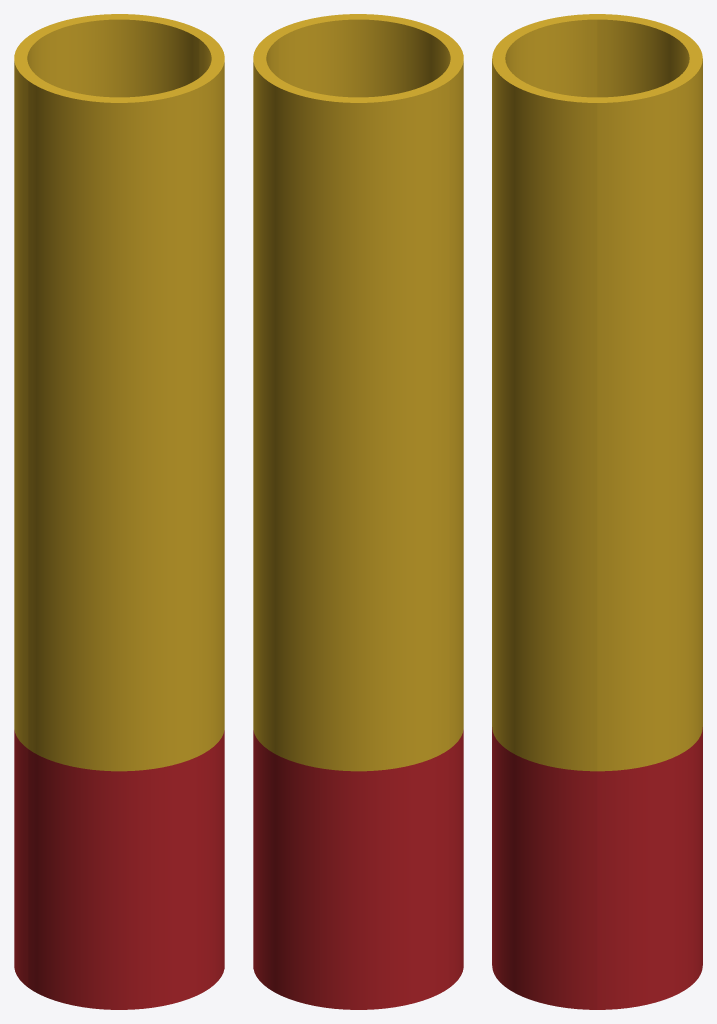
Rendered from flash_dryer_temperature.glb.
The picture shows the model from 3 angles, left to right: view 1: azimuth 30°, elevation 25°; view 2: azimuth 150°, elevation 25°; view 3: azimuth 270°, elevation 25°; orthographic projection.
Visible parts, largest first — view 1: temperature__front, temperature__back; view 2: temperature__back, temperature__front; view 3: temperature__back, temperature__front.
Part boxes in pixels (x1,y1,x2,y2): temperature__front: [28, 36, 224, 1009]; temperature__back: [14, 14, 210, 987]; temperature__back: [253, 36, 449, 1009]; temperature__front: [267, 14, 463, 987]; temperature__back: [597, 14, 702, 1009]; temperature__front: [492, 14, 597, 1009].
Size of the model in its own units: 0.4 by 1.9 by 0.4.
